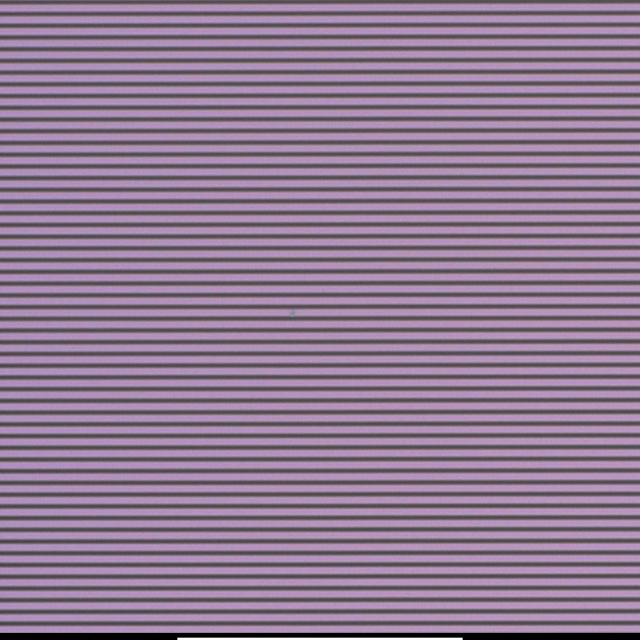nonvisual: (286, 306, 298, 322)
